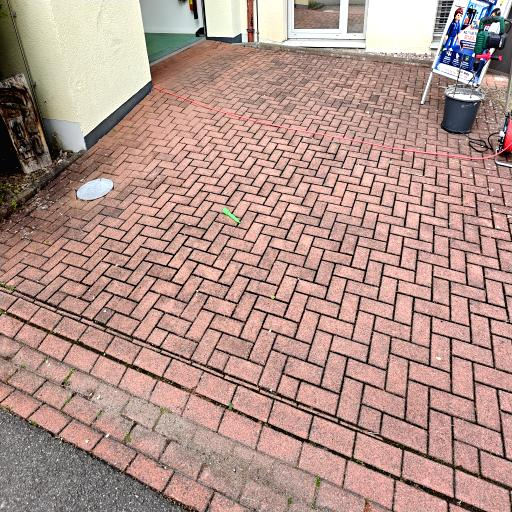Probe-Detection: (223, 208, 240, 223)
